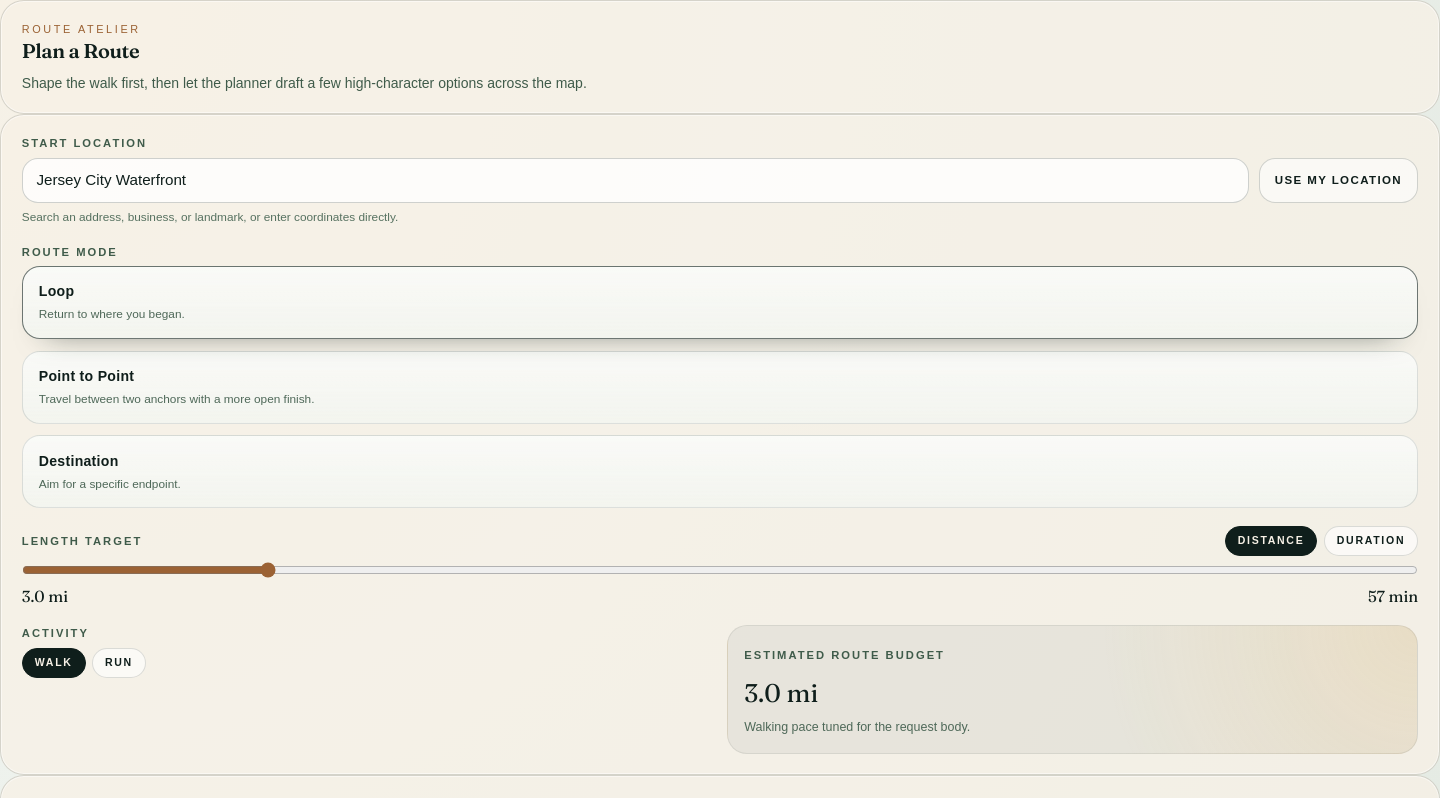
Scenario: PlanPanel › shows a friendly error when location search fails
Replace the text in the field labelled "Start Location" with "Razza Pizza" at (635, 180), box [22,158,1249,203]
(page scrolled)
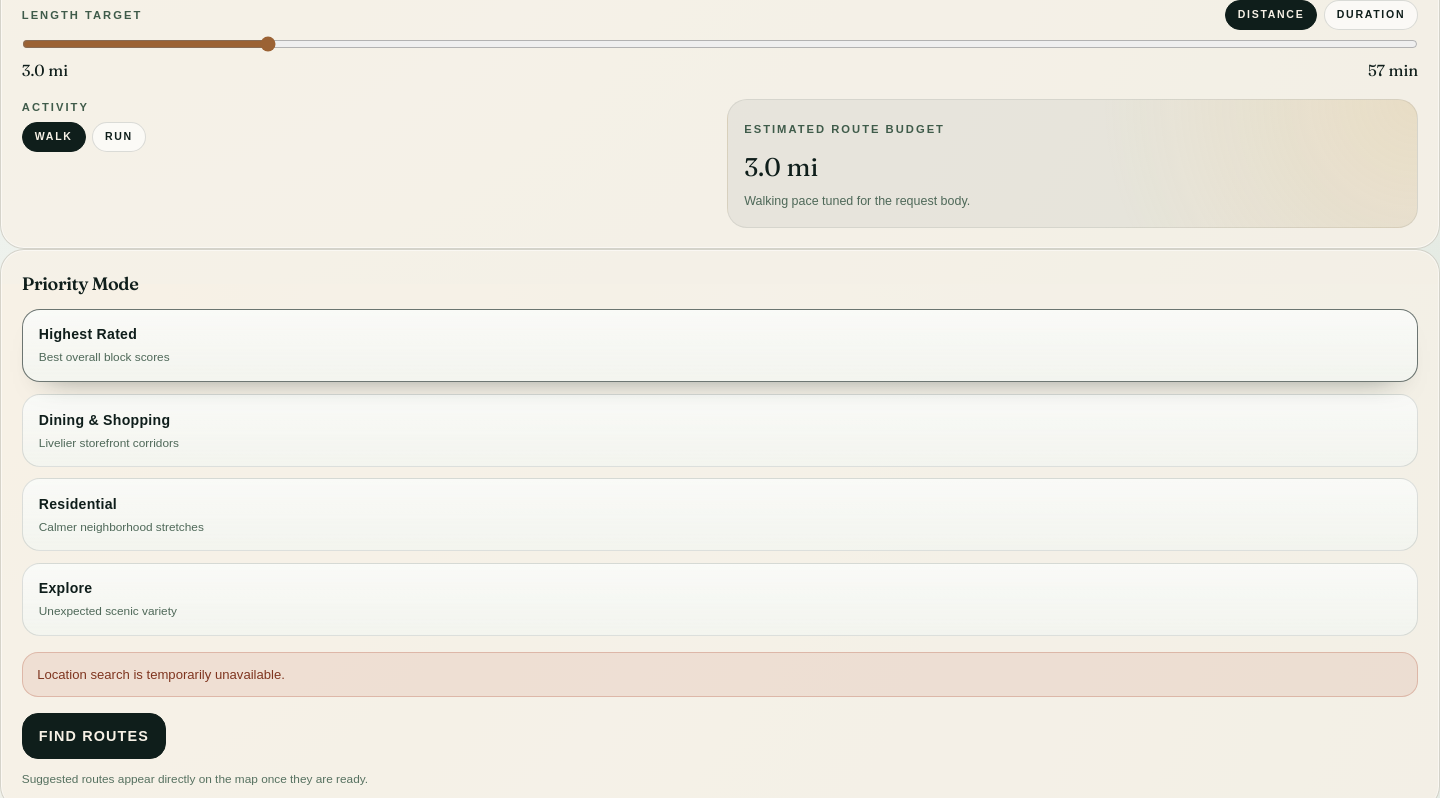
Now the message reads "Location search is temporarily unavailable.", box [37,667,285,682]
